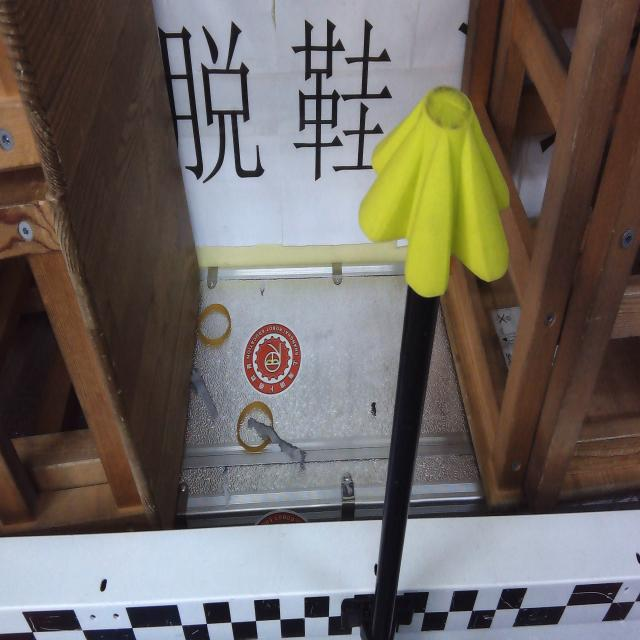Yellow-Stake-Head: (358, 84, 512, 296)
